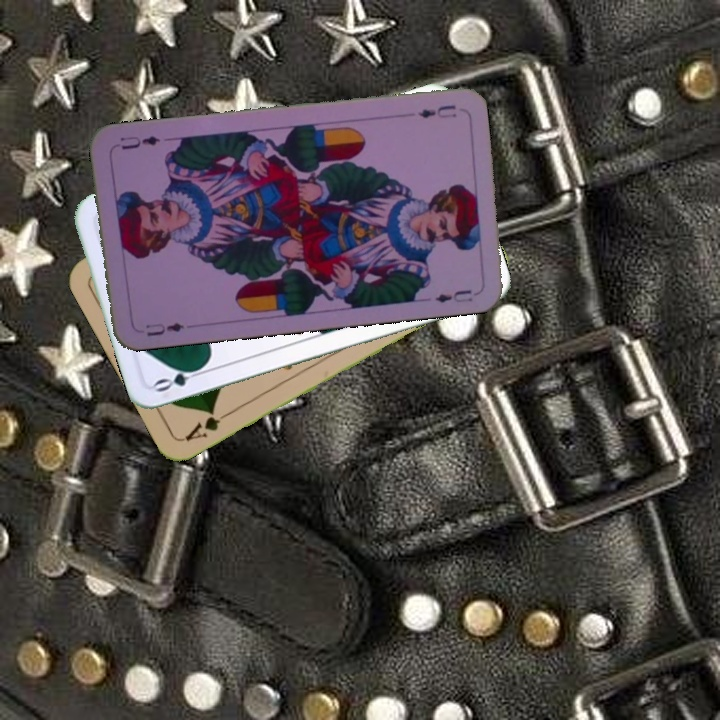EU: (141, 318, 187, 339), (414, 101, 459, 121)
GA: (181, 405, 234, 444)
GO: (150, 361, 209, 395)
